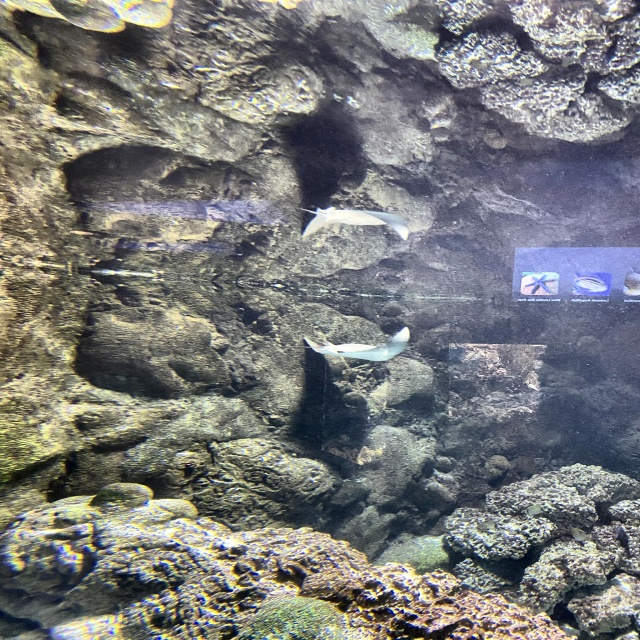stingray: (304, 326, 410, 361), (302, 208, 410, 241)
